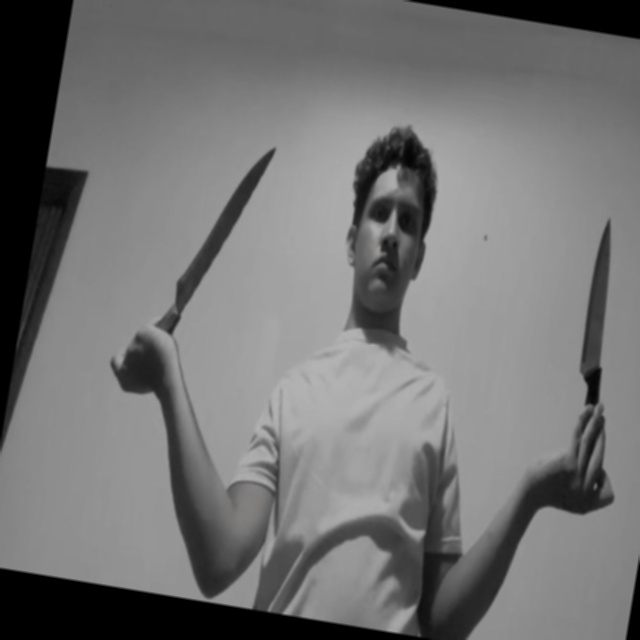Sharp-Object: (172, 136, 275, 313), (576, 215, 625, 372)
